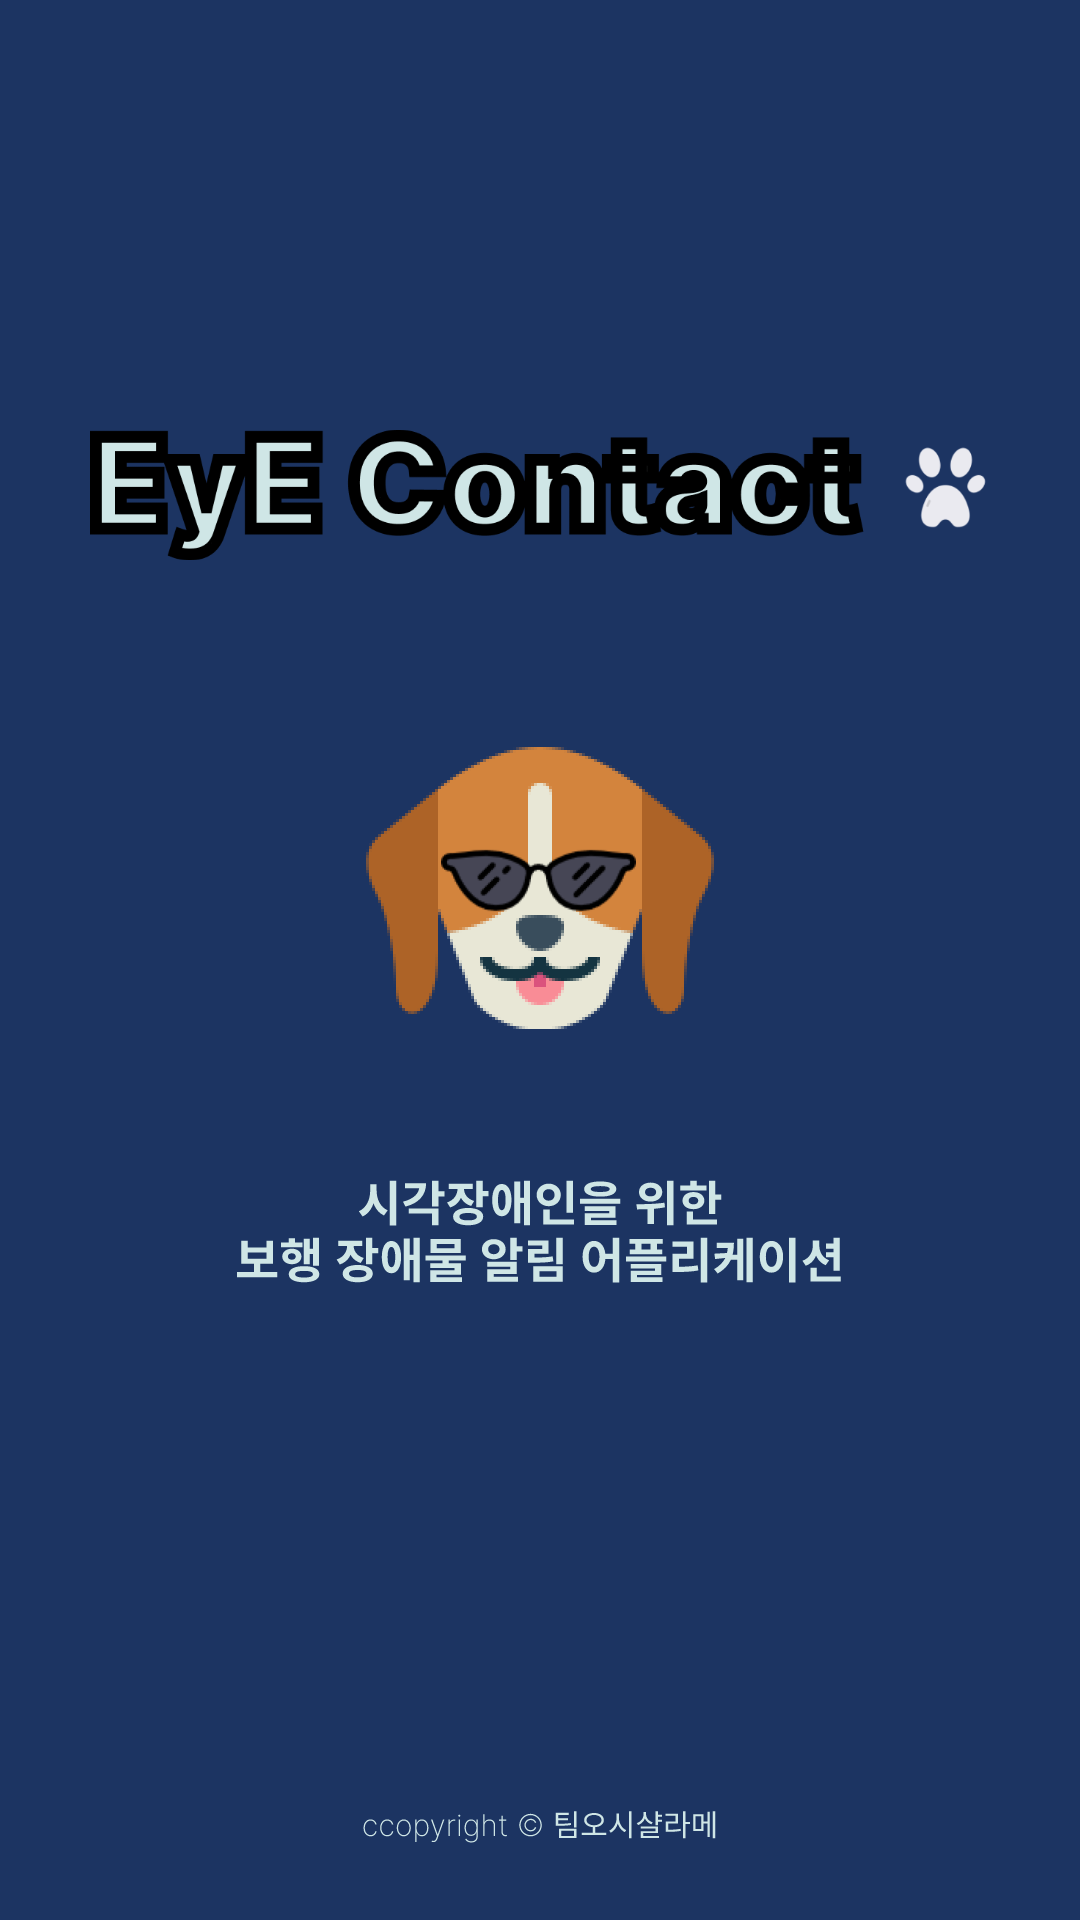

Point at icon controls on the screen. Image size 1080px×1920px, points as [x,y].
dog: [540,888]
